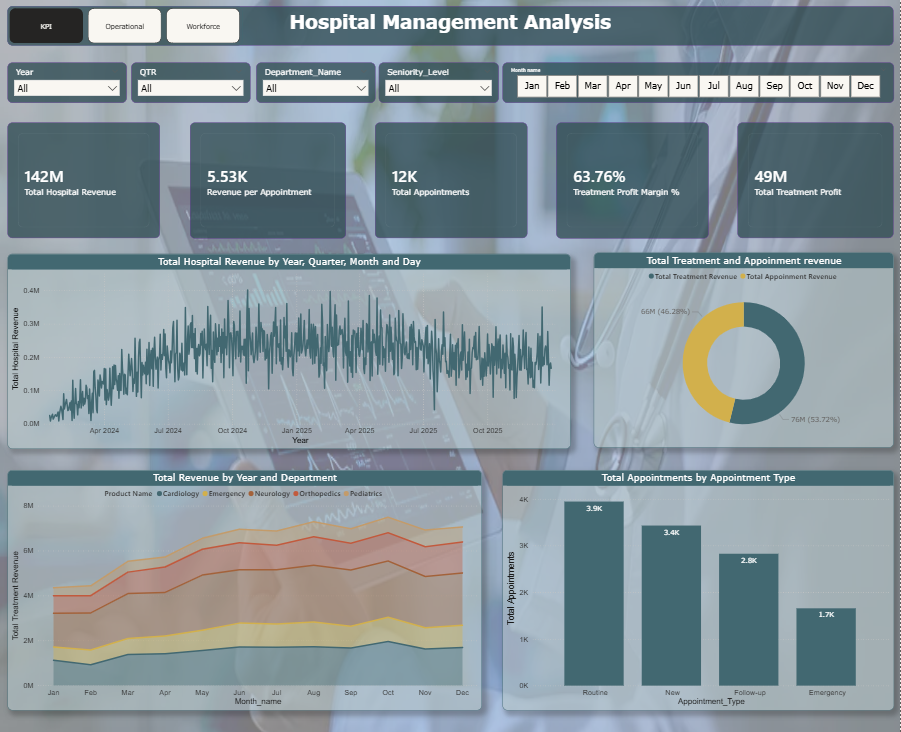

The page's visual inventory and layout, read from the dashboard file:
{"tool":"powerbi","page":{"name":"KPI","canvas":[1800,1500],"ordinal":0},"visuals":[{"type":"textbox","box":[15,11.7,1771.7,78.3],"z":0},{"type":"cardVisual","fields":{"Data":["Measures_.Total Hospital Revenue"]},"box":[15.1,244.7,305.1,231.3],"z":1000},{"type":"cardVisual","fields":{"Data":["Measures_.Profit Margin %"]},"box":[1111.7,245,305,231.7],"z":2000},{"type":"cardVisual","fields":{"Data":["Measures_.Total Appointments"]},"box":[749.3,244.7,305.1,231.3],"z":3000},{"type":"cardVisual","fields":{"Data":["Measures_.Revenue per Appointment"]},"box":[380,245,311.7,231.7],"z":4000},{"type":"lineChart","fields":{"Category":["Date_Master.Date.Variation.Date Hierarchy.Year","Date_Master.Date.Variation.Date Hierarchy.Quarter","Date_Master.Date.Variation.Date Hierarchy.Month","Date_Master.Date.Variation.Date Hierarchy.Day"],"Y":["Measures_.Total Hospital Revenue"]},"box":[15,506.7,1126.7,390],"z":5000},{"type":"donutChart","title":"Total Treatment and Appoinment revenue","fields":{"Y":["Measures_.Total Treatment Revenue","Measures_.Total Revenue"]},"box":[1186.8,506.2,600.1,390.6],"z":6000},{"type":"columnChart","title":"Total Appointments by Appointment Type","fields":{"Category":["Fact_Appointments_v4.Appointment_Type"],"Y":["Measures_.Total Appointments"]},"box":[1004.1,940.4,782.8,481.1],"z":7000},{"type":"slicer","fields":{"Values":["Date_Master.Year"]},"box":[15.1,125.7,238,80.5],"z":8000},{"type":"slicer","fields":{"Values":["Date_Master.Month_name"]},"box":[1004.1,125.7,782.8,80.5],"z":9000},{"type":"slicer","fields":{"Values":["Date_Master.QTR"]},"box":[261.5,125.7,238,80.5],"z":10000},{"type":"slicer","fields":{"Values":["Dim_Departments_v4.Department_Name"]},"box":[511.3,125.7,238,80.5],"z":11000},{"type":"slicer","fields":{"Values":["Dim_Doctors_v4.Seniority_Level"]},"box":[757.7,125.7,239.7,80.5],"z":12000},{"type":"cardVisual","fields":{"Data":["Measures_.Total Profit"]},"box":[1475.1,244.7,311.8,231.3],"z":13000},{"type":"stackedAreaChart","title":"Total Revenue by Year and Department","fields":{"Category":["Date_Master.Month_name"],"Series":["Dim_Departments_v4.Department_Name"],"Y":["Measures_.Total Treatment Revenue"]},"box":[15.1,940.4,948.8,481.1],"z":14000},{"type":"pageNavigator","box":[15,11.7,470,78.3],"z":15001}]}

Visuals, with their boxes in screenshot pixels (x1, y1, x2, y2), scaled from the page's 1800x1500 canvas onto the 901x732 screenshot:
textbox: box(8, 6, 894, 44)
cardVisual - Measures_.Total Hospital Revenue: box(8, 119, 160, 232)
cardVisual - Measures_.Profit Margin %: box(556, 120, 709, 233)
cardVisual - Measures_.Total Appointments: box(375, 119, 528, 232)
cardVisual - Measures_.Revenue per Appointment: box(190, 120, 346, 233)
lineChart - Date_Master.Date.Variation.Date Hierarchy.Year x Date_Master.Date.Variation.Date Hierarchy.Quarter: box(8, 247, 571, 438)
"Total Treatment and Appoinment revenue" donutChart: box(594, 247, 894, 438)
"Total Appointments by Appointment Type" columnChart: box(503, 459, 894, 694)
slicer - Date_Master.Year: box(8, 61, 127, 101)
slicer - Date_Master.Month_name: box(503, 61, 894, 101)
slicer - Date_Master.QTR: box(131, 61, 250, 101)
slicer - Dim_Departments_v4.Department_Name: box(256, 61, 375, 101)
slicer - Dim_Doctors_v4.Seniority_Level: box(379, 61, 499, 101)
cardVisual - Measures_.Total Profit: box(738, 119, 894, 232)
"Total Revenue by Year and Department" stackedAreaChart: box(8, 459, 482, 694)
pageNavigator: box(8, 6, 243, 44)
